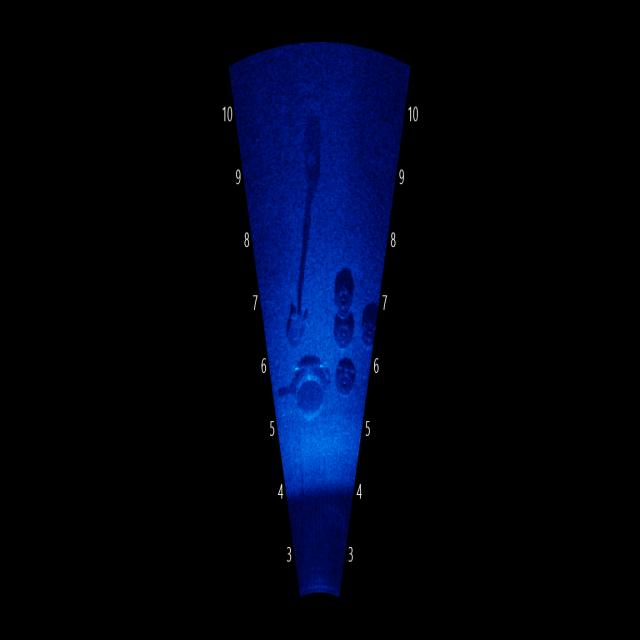circle: (286, 352, 338, 427), (326, 262, 364, 326), (352, 294, 386, 360), (331, 346, 364, 406), (329, 294, 356, 348)
